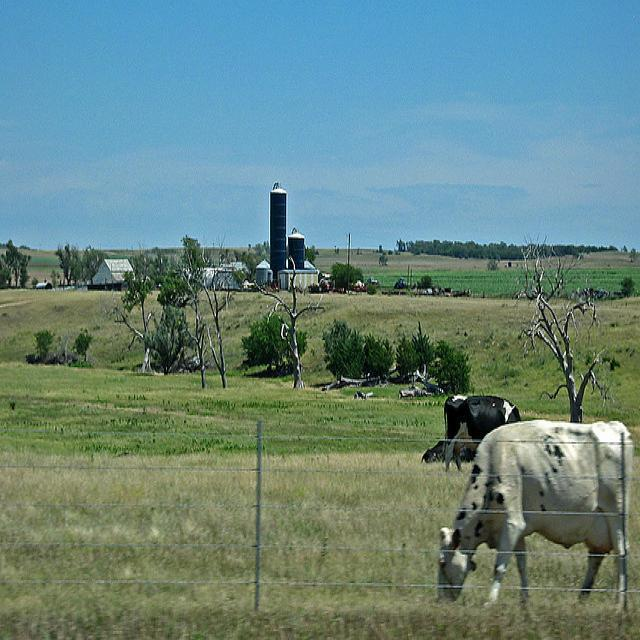cow: (435, 415, 632, 612), (440, 391, 519, 474), (421, 430, 476, 463), (352, 391, 356, 397)
